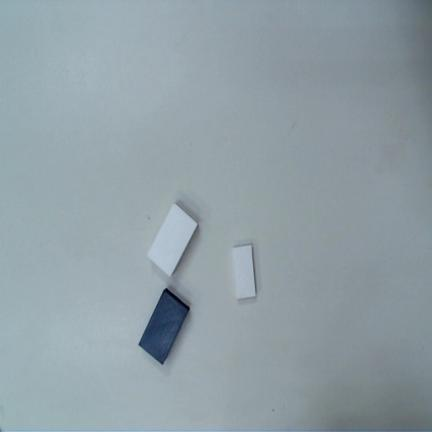Paralelepipedo: (138, 288, 190, 366), (147, 203, 198, 278), (232, 244, 256, 299)
